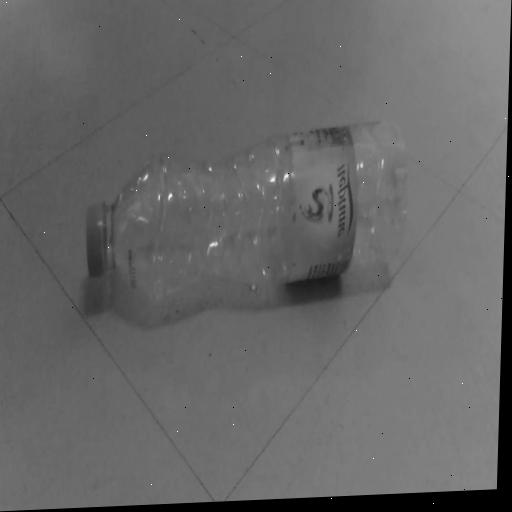bottle: (71, 96, 447, 313)
